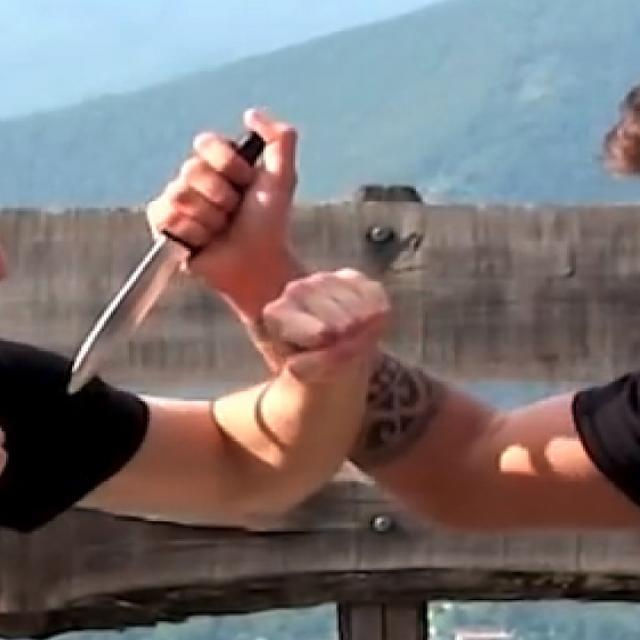suspicion: (58, 99, 638, 538), (63, 228, 191, 398)
